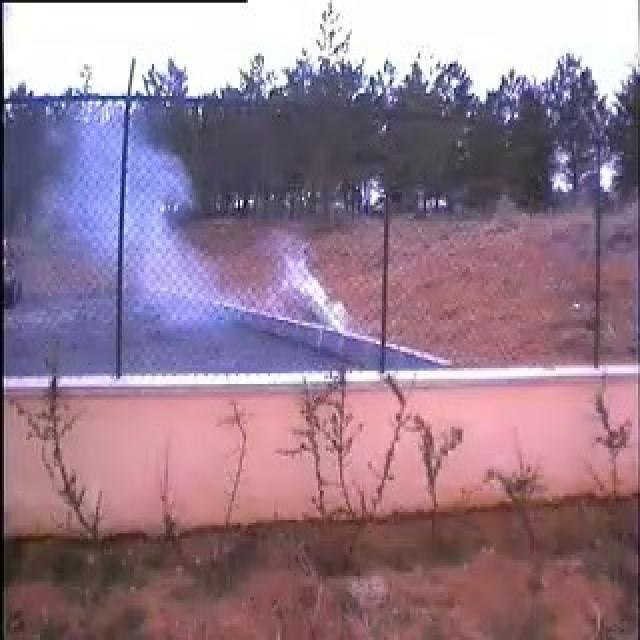smoke: (50, 108, 337, 334)
